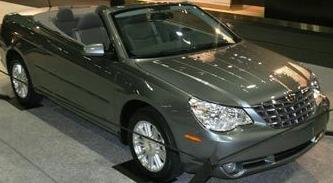front_view: (191, 80, 333, 164)
headlight: (189, 95, 252, 137)
side_glass: (45, 5, 118, 66)
